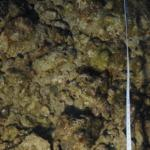dead: (1, 32, 140, 144)
